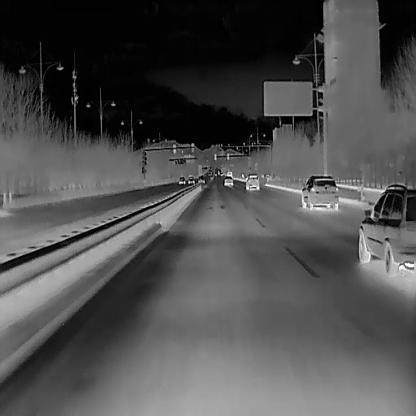car: (357, 182, 413, 274), (300, 172, 339, 212), (245, 173, 260, 191), (224, 173, 232, 187), (177, 176, 184, 184), (188, 174, 195, 182), (198, 174, 204, 183), (226, 171, 232, 177)
